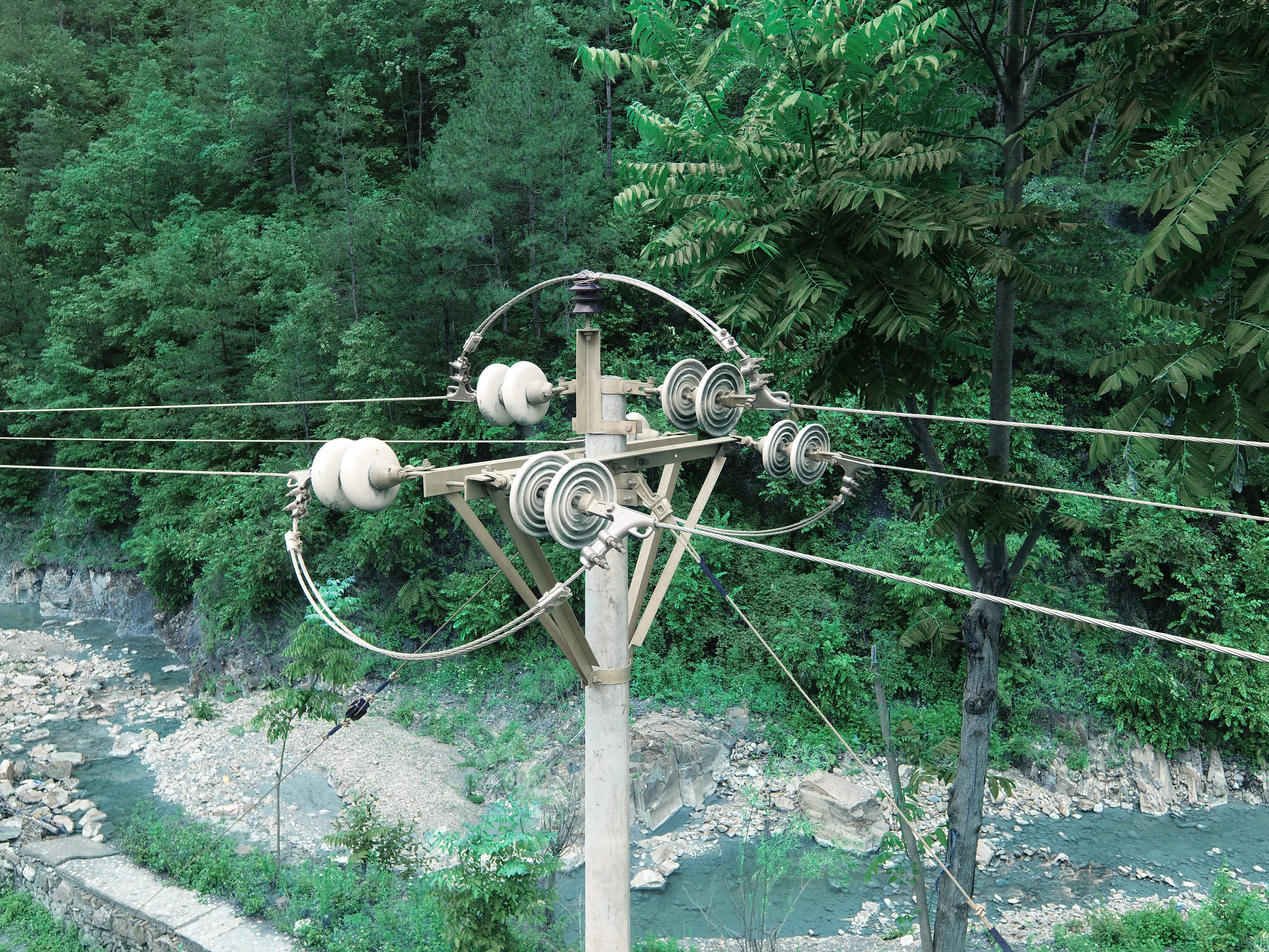severe_soiling_no_discharge_whole: (503, 447, 620, 555), (654, 352, 750, 434), (308, 433, 403, 512), (474, 358, 556, 430), (753, 416, 832, 486)
